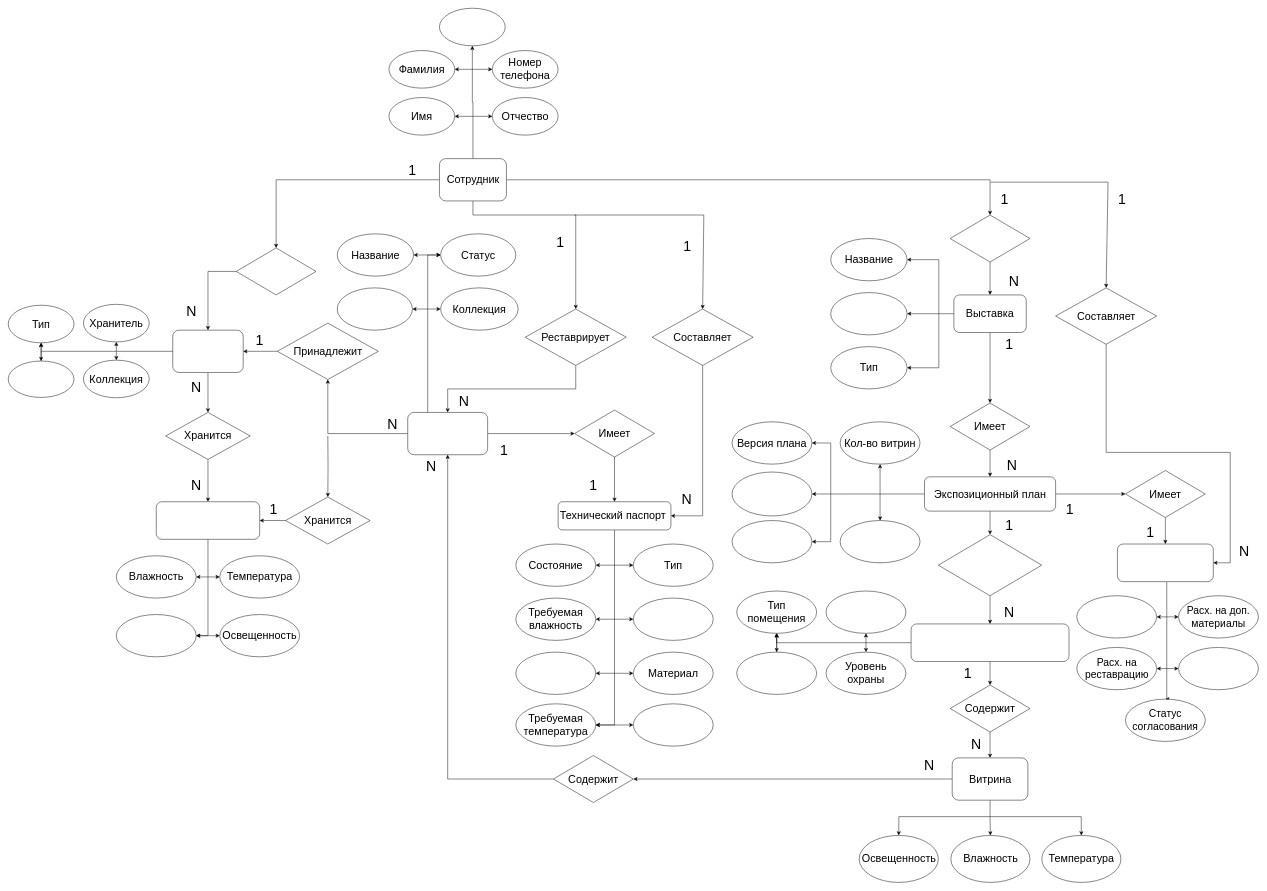
Some shapes in this 1267 by 891 pixel diagram are drawn without their labels. The shapes that lost their labels are listed below. From the top down, each one's box as (x1, y1, x2, y2) in pixels, then its label:
(439, 8, 505, 46): Должность
(950, 215, 1030, 262): Курирует
(236, 247, 316, 295): Заведует
(337, 287, 412, 330): Инвентарный номер
(830, 292, 907, 335): Тема
(172, 330, 243, 372): Фонд
(8, 361, 74, 397): Уровень доступа
(407, 412, 488, 455): Экспонат
(732, 472, 812, 516): Концепция взаимодействия
(156, 501, 260, 539): Фондохранилище
(732, 520, 812, 563): Логика осмотра
(840, 520, 920, 563): Организатор
(938, 534, 1042, 596): Характеризует
(1117, 544, 1213, 582): Смета расходов
(633, 598, 713, 640): Вес
(826, 591, 906, 633): Вместимость посетителей
(1076, 595, 1157, 638): Расх. на рекламу
(116, 614, 196, 657): Вместимость
(911, 623, 1069, 662): Выставочное пространство
(515, 652, 596, 694): Требуемая освещенность
(736, 652, 817, 694): Естественная освещенность
(1178, 647, 1258, 690): Расх. на наемных рабочих
(633, 703, 713, 746): Эпоха
